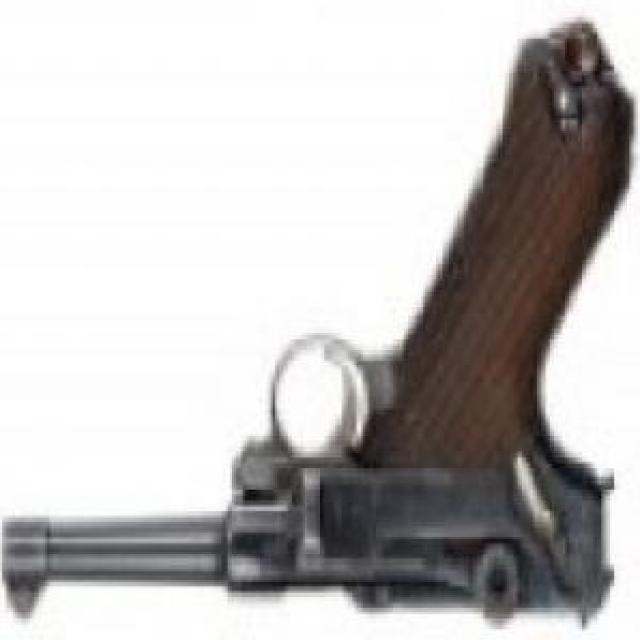pistol: (2, 28, 634, 629)
